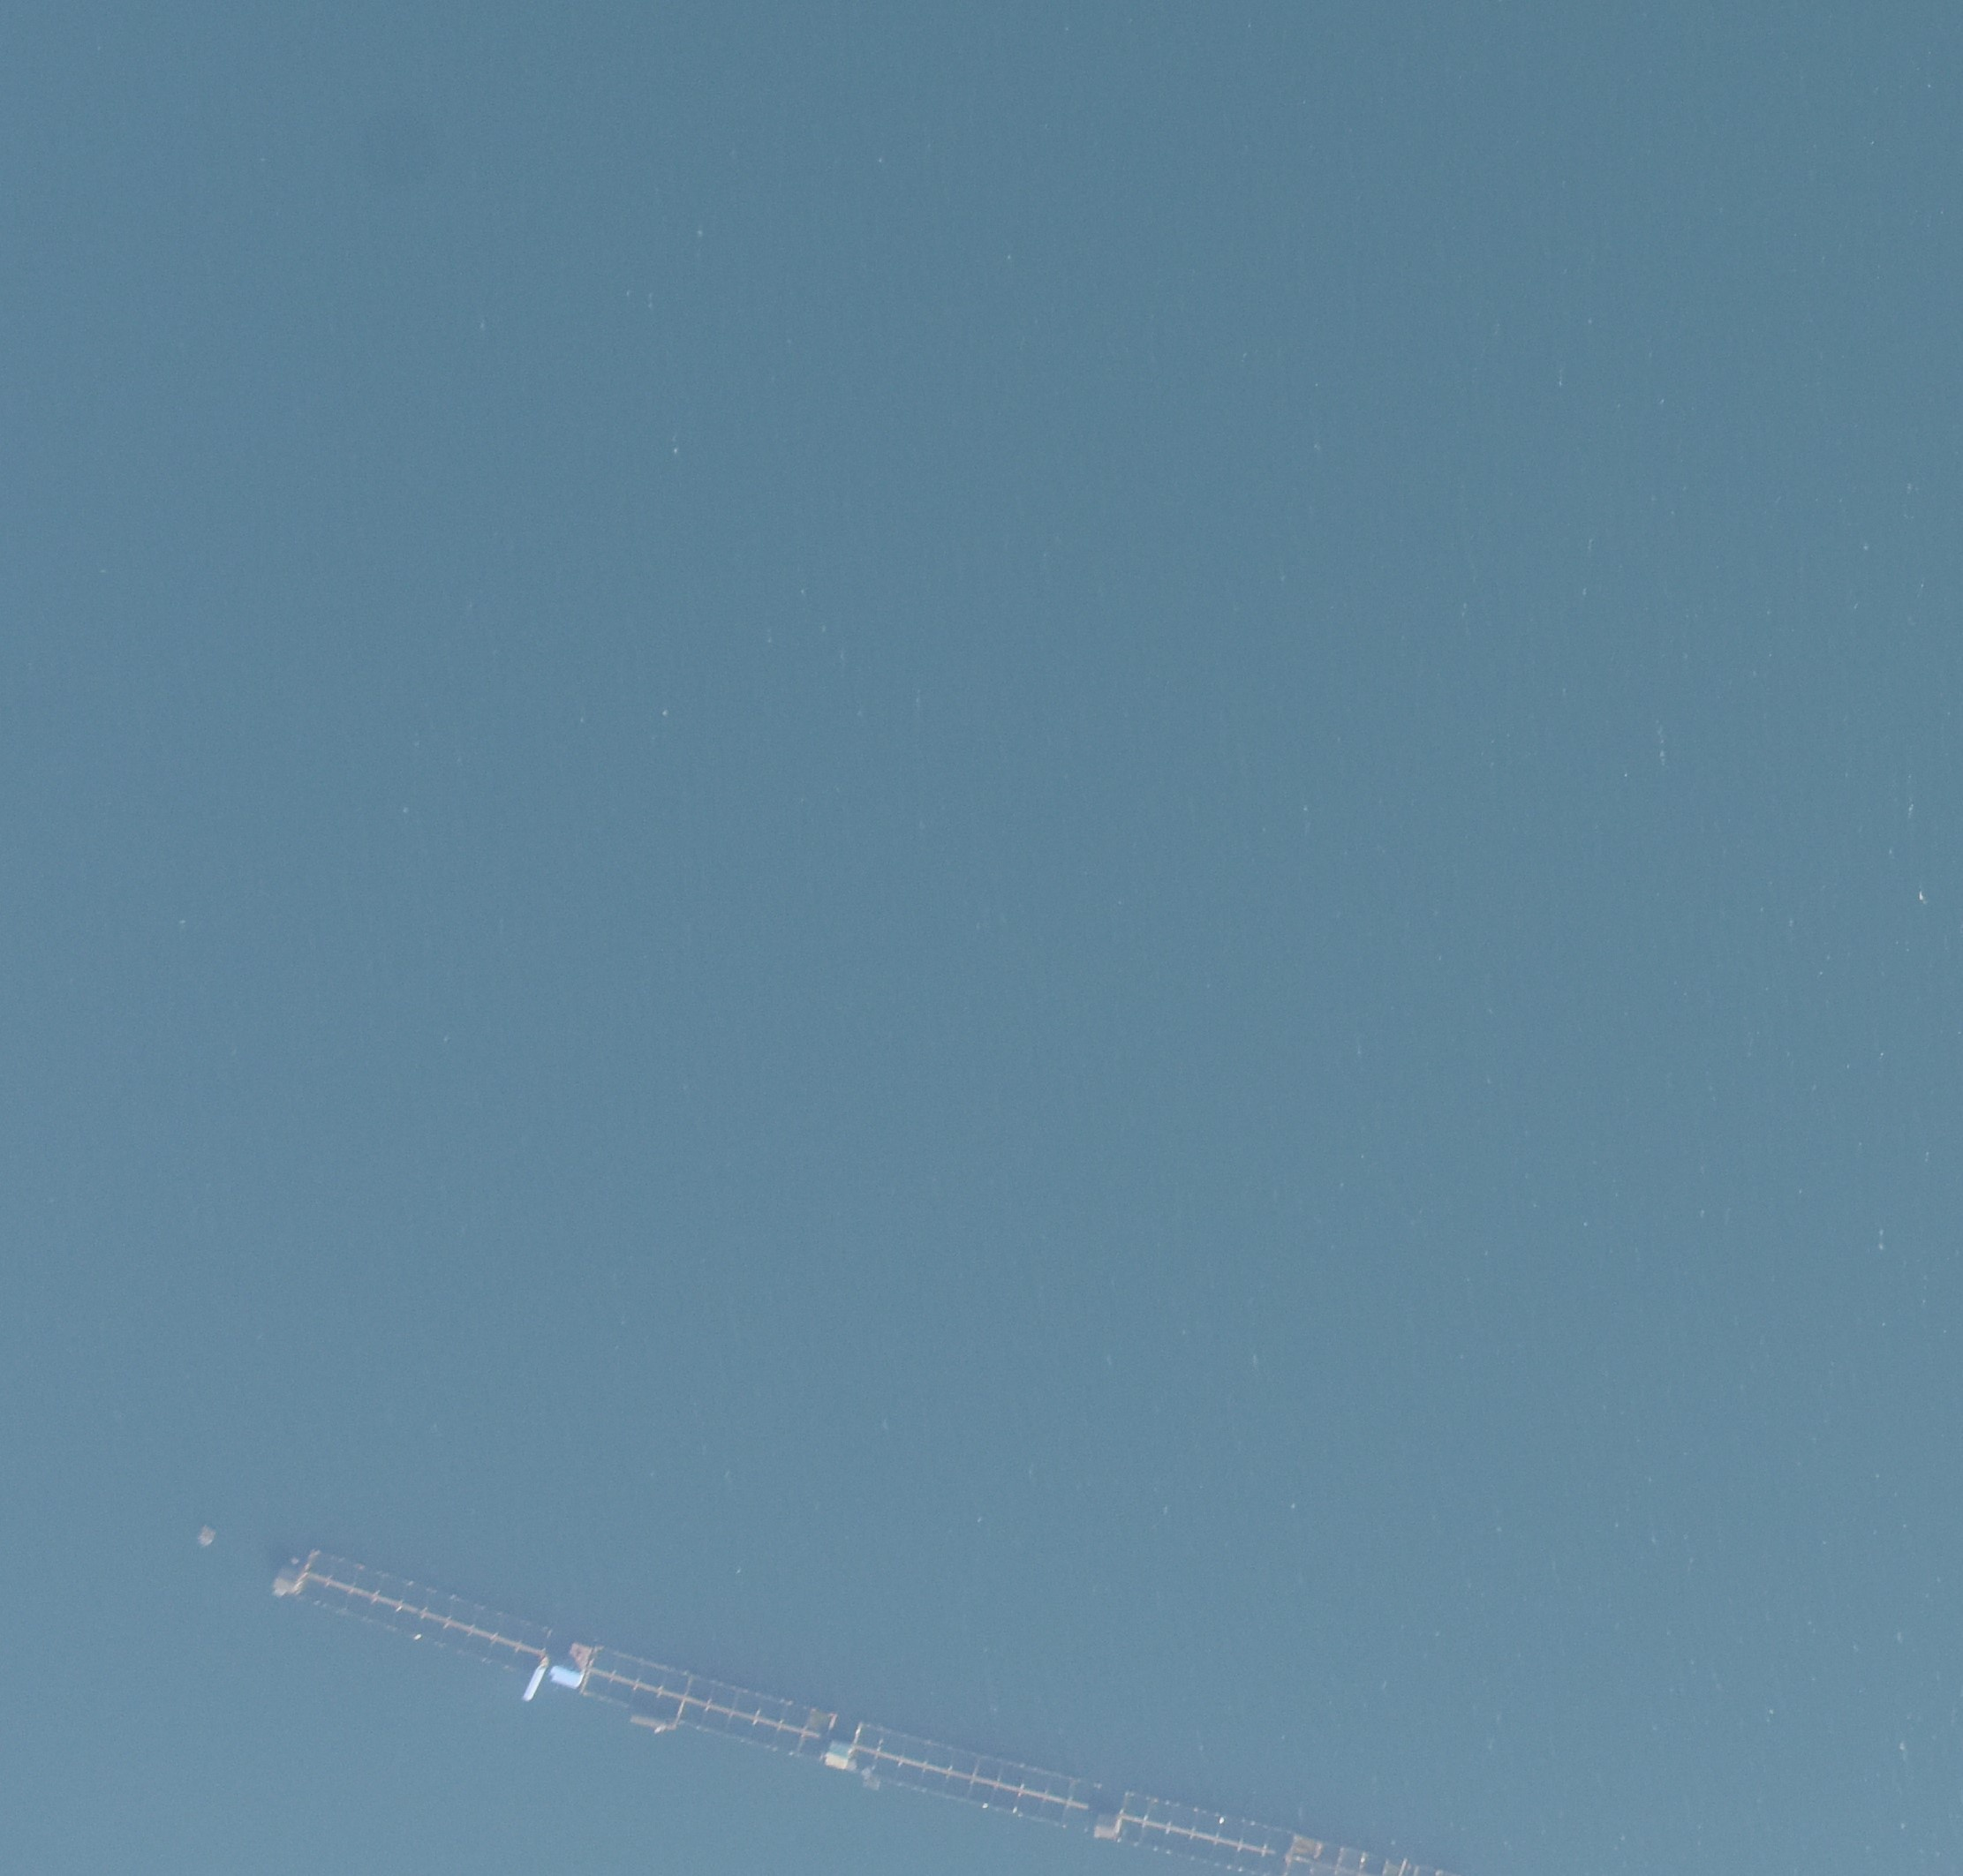cultivation-mesh-cage: (294, 1548, 554, 1679), (578, 1644, 835, 1765), (845, 1719, 1102, 1831), (1114, 1789, 1371, 1876), (1377, 1848, 1453, 1876)
prefabricated-house: (520, 1656, 549, 1704), (270, 1559, 305, 1597), (552, 1661, 586, 1690), (827, 1740, 854, 1770), (1093, 1812, 1119, 1838), (200, 1525, 214, 1543)
